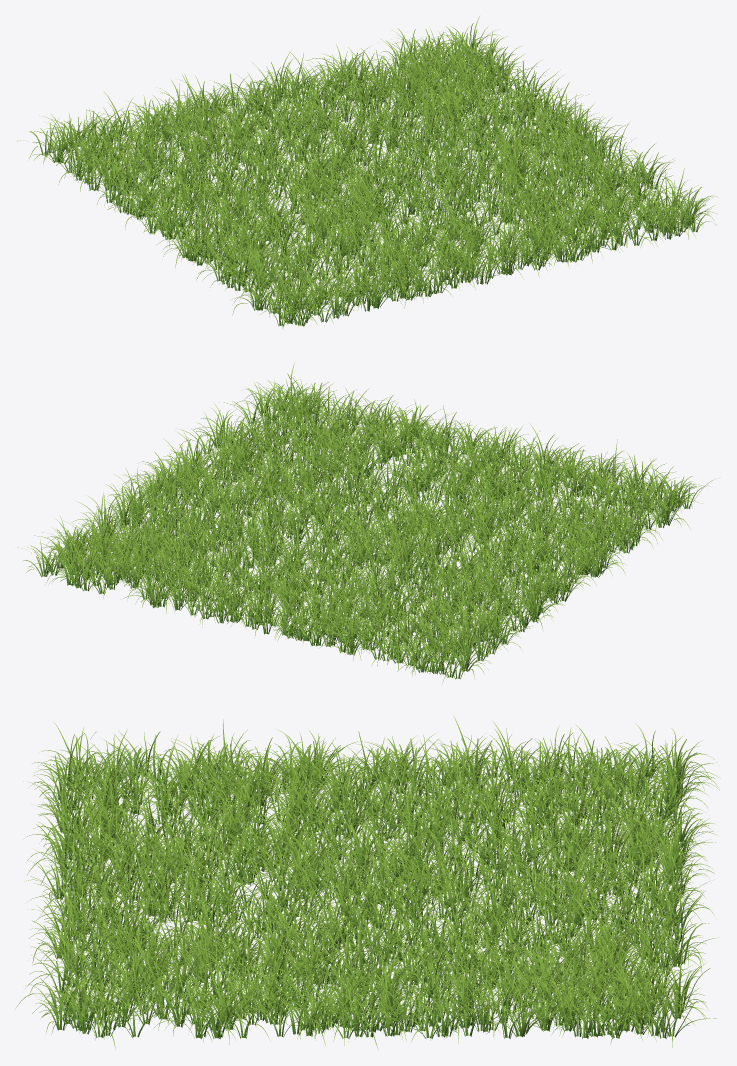
File: caodi.glb
The picture shows the model from 3 angles, top to bottom: view 1: azimuth 30°, elevation 25°; view 2: azimuth 150°, elevation 25°; view 3: azimuth 270°, elevation 25°; orthographic projection. The views are drawn at different scales.
Parts seen in each view (by area): view 1: grass_02; view 2: grass_02; view 3: grass_02.
Part boxes in pixels (left/top/right/bottom): grass_02: left=17, top=16, right=717, bottom=329; grass_02: left=18, top=363, right=712, bottom=682; grass_02: left=16, top=717, right=720, bottom=1050.
Size of the model in its own units: 0.2306 by 0.0203 by 0.2272.
1 material, 1 textured.
